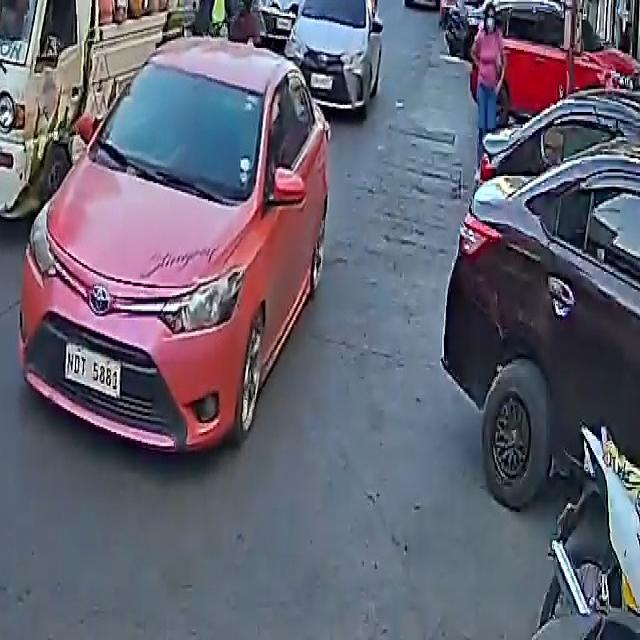car: (12, 31, 340, 456), (444, 133, 640, 537), (470, 0, 637, 130), (281, 0, 385, 116), (250, 0, 308, 32), (402, 0, 442, 5)
